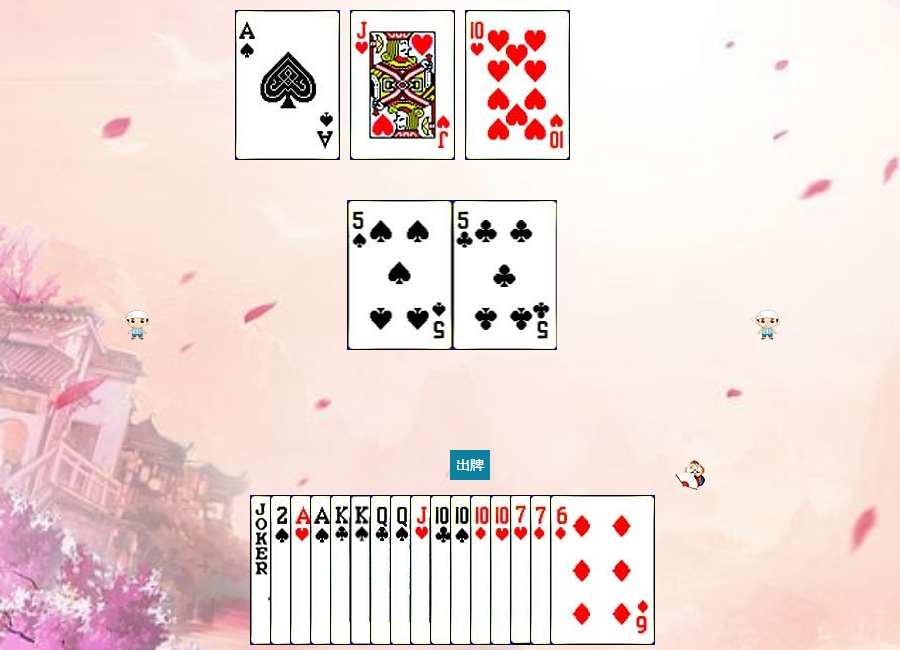10~1: (470, 495, 575, 645)
10~2: (430, 495, 535, 645)
10~3: (465, 10, 570, 160), (490, 495, 595, 645)
10~4: (450, 495, 555, 645)
11~3: (350, 10, 455, 160), (410, 495, 515, 645)
12~2: (370, 495, 475, 645)
12~4: (390, 495, 495, 645)
13~2: (330, 495, 435, 645)
13~4: (350, 495, 455, 645)
14~3: (290, 495, 395, 645)
14~4: (235, 10, 340, 160), (310, 495, 415, 645)
15~4: (270, 495, 375, 645)
17~3: (250, 495, 355, 645)
5~2: (453, 200, 558, 350)
5~4: (348, 200, 453, 350)
6~1: (550, 495, 655, 645)
7~1: (530, 495, 635, 645)
7~3: (510, 495, 615, 645)
